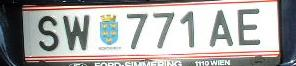1: (180, 11, 194, 47)
7: (153, 14, 173, 49), (127, 14, 146, 49)
A: (209, 9, 233, 46)
E: (237, 9, 260, 45)
S: (39, 16, 58, 52)
W: (62, 16, 90, 50)
